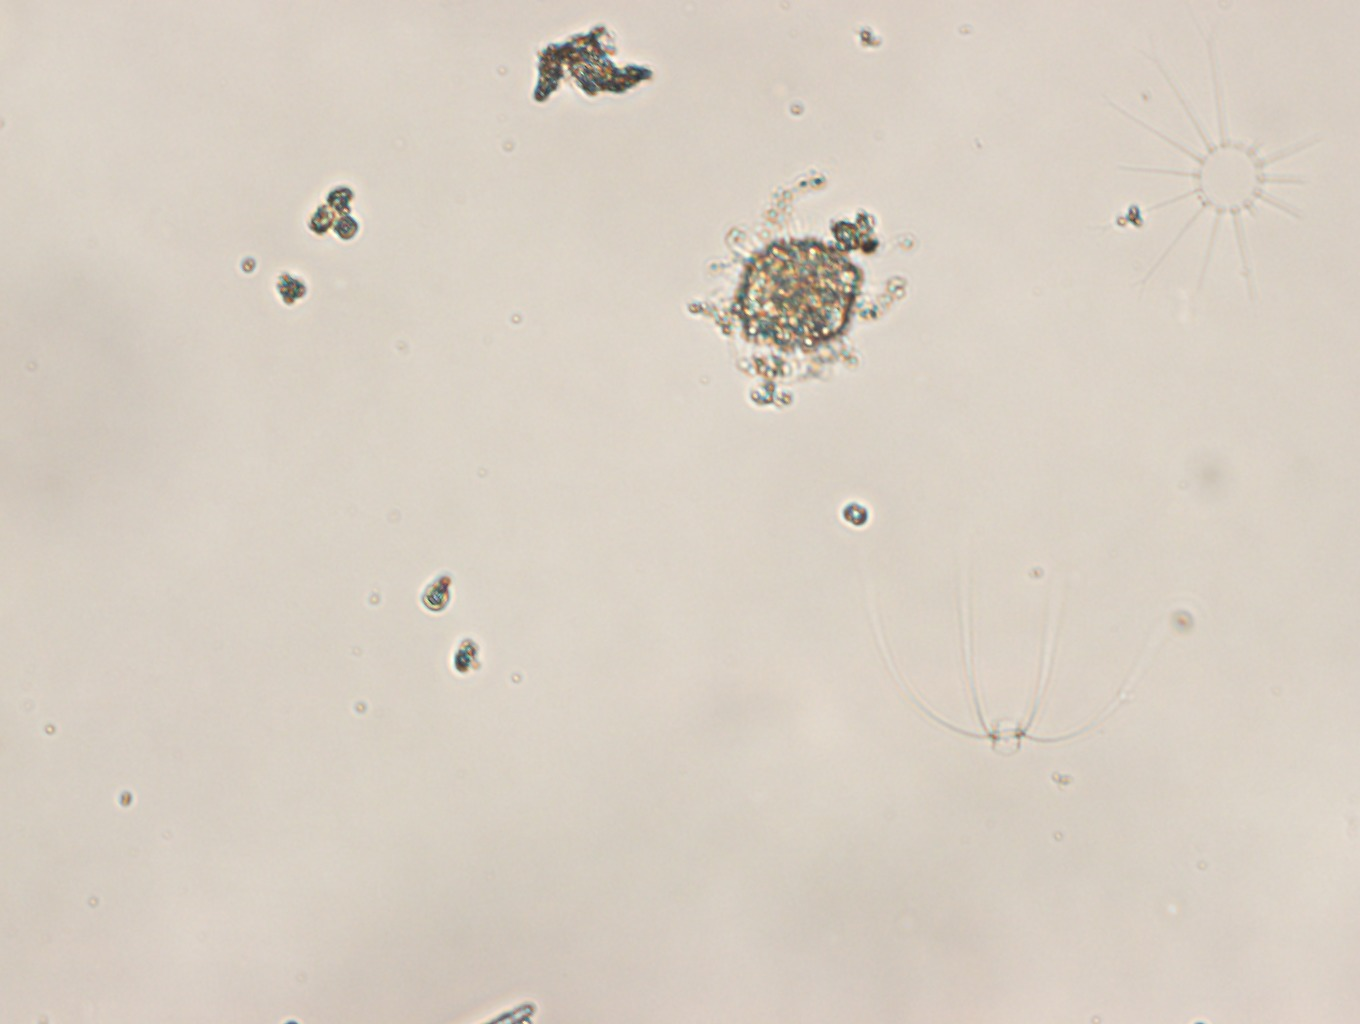bacteriastrum: (1106, 11, 1356, 318)
chaetoceros: (862, 566, 1155, 757)
